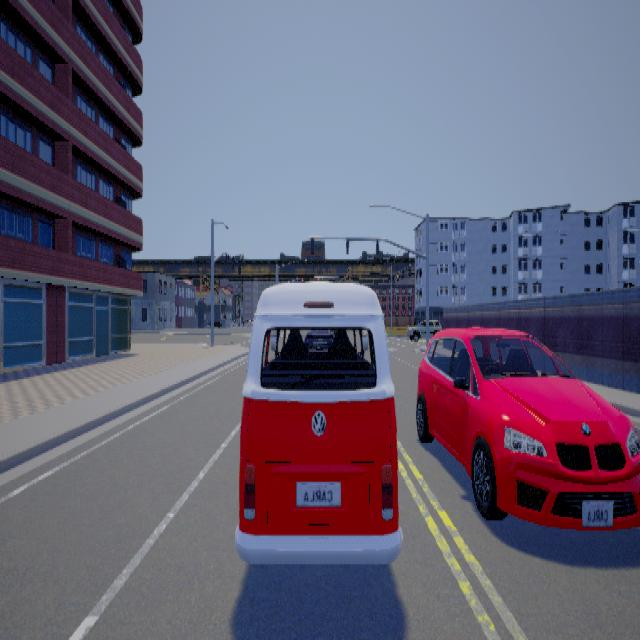vehicle: (236, 280, 404, 562), (417, 318, 640, 529)
